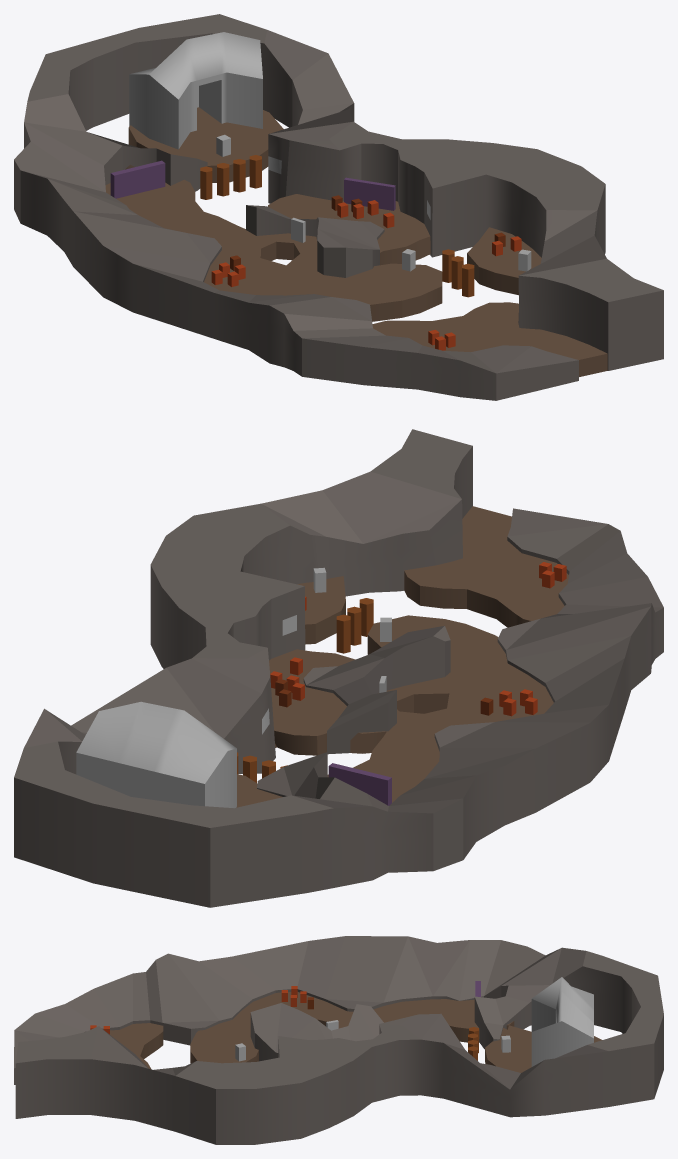
Rendered from Fire_Level.fbx.
3 renders of one model, top to bottom at view 1: azimuth 30°, elevation 25°; view 2: azimuth 150°, elevation 25°; view 3: azimuth 270°, elevation 25°, orthographic. The views are drawn at different scales.
Visible parts, largest first — view 1: polySurface1, polySurface2, pCube26, pCube4, pCube7; view 2: polySurface1, polySurface2, pCube26, pCube4; view 3: polySurface1, polySurface2, pCube26.
Boxes of the visible parts, box(x1,y1,x2,y2) form: polySurface1: box(14, 14, 663, 400); polySurface2: box(105, 107, 607, 376); pCube26: box(129, 32, 262, 149); pCube4: box(110, 160, 165, 198); pCube7: box(344, 177, 395, 210); polySurface1: box(14, 429, 663, 907); polySurface2: box(236, 506, 568, 807); pCube26: box(76, 701, 236, 808); pCube4: box(328, 763, 391, 805); polySurface1: box(14, 936, 663, 1144); polySurface2: box(110, 992, 602, 1072); pCube26: box(531, 977, 593, 1066).
Size of what is drawn, in the model's own units: 12.84 by 3.24 by 21.11.
